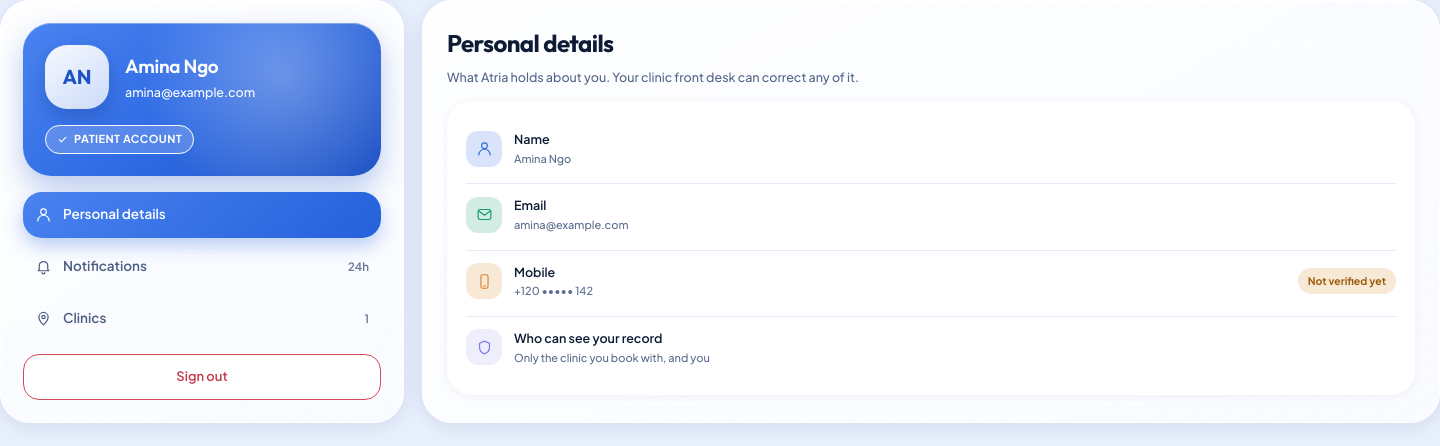
Scenario: Account › lists the clinics with their hours
Click the button "Clinics 1" at (85, 318), box [23,296,381,342]
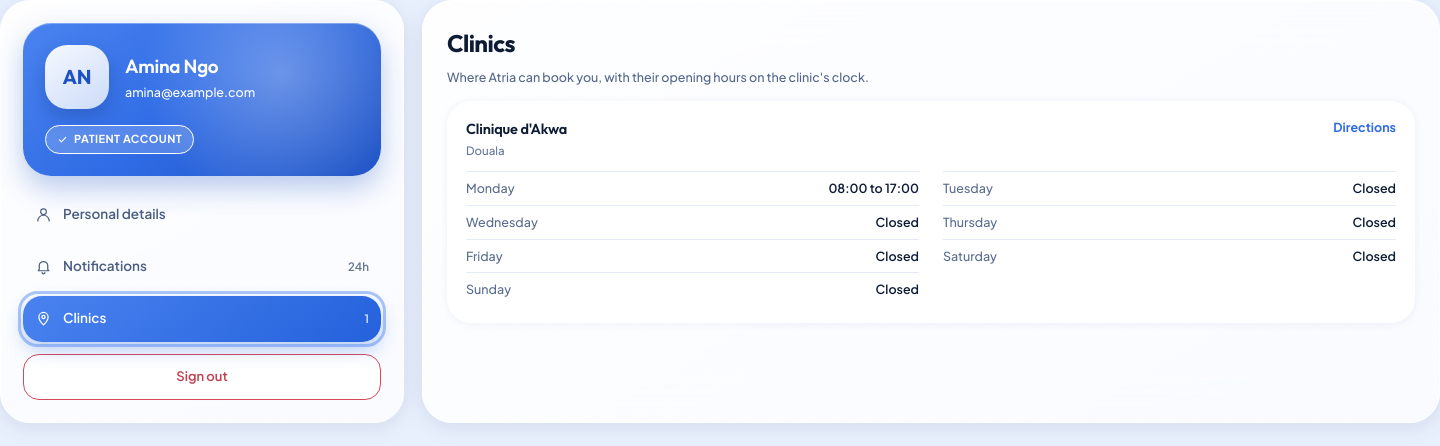
Check: the text "08:00 to 17:00" is shown, box [828,179,919,198]
Check: the text "Closed" is shown 6 times, box [1353,179,1396,198]; [876,213,919,232]; [1353,213,1396,232]; [876,246,919,265]; [1353,246,1396,265]; [876,280,919,299]
